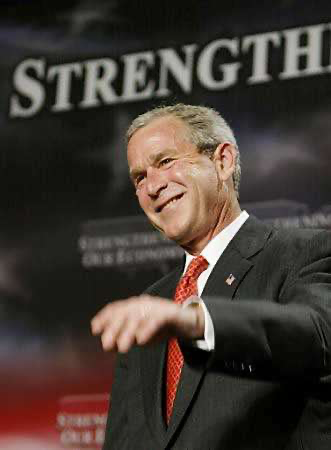Face: (126, 127, 221, 252)
